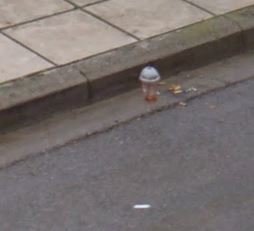trash: (136, 61, 166, 103), (127, 198, 158, 209)
